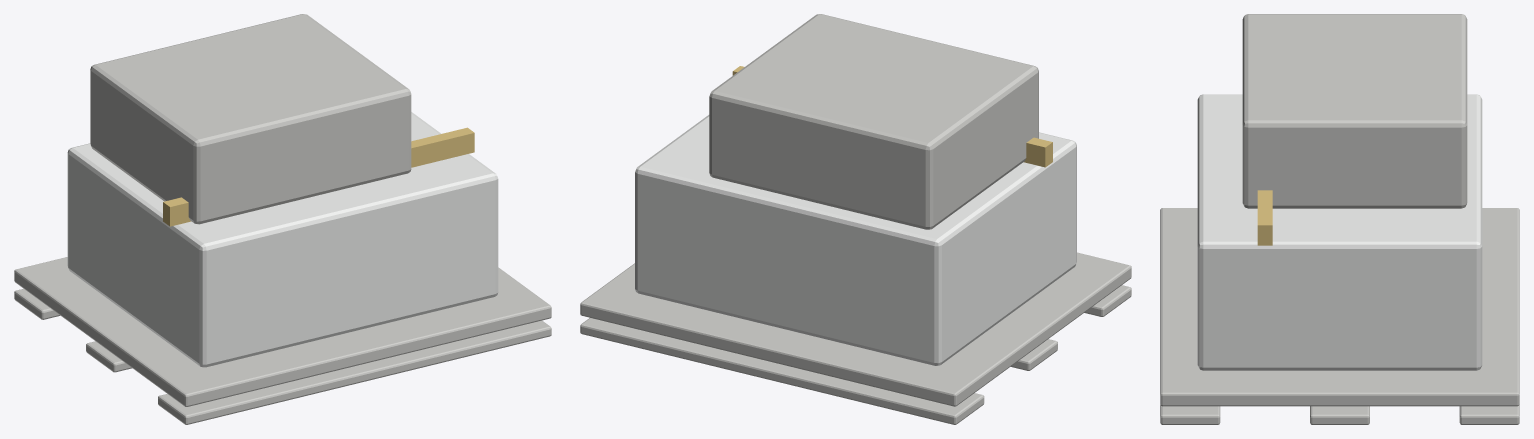
File: P_pallet.fbx
3 renders of one model, left to right at view 1: azimuth 30°, elevation 25°; view 2: azimuth 150°, elevation 25°; view 3: azimuth 270°, elevation 25°, orthographic. The views are drawn at different scales.
Visible parts, largest first — view 1: P_pallet; view 2: P_pallet; view 3: P_pallet.
Part boxes in pixels (<box>): P_pallet: <box>14,14,551,424</box>; P_pallet: <box>580,14,1131,424</box>; P_pallet: <box>1160,14,1519,424</box>.
Size of the model in its own units: 1.18 by 0.745 by 0.96.
